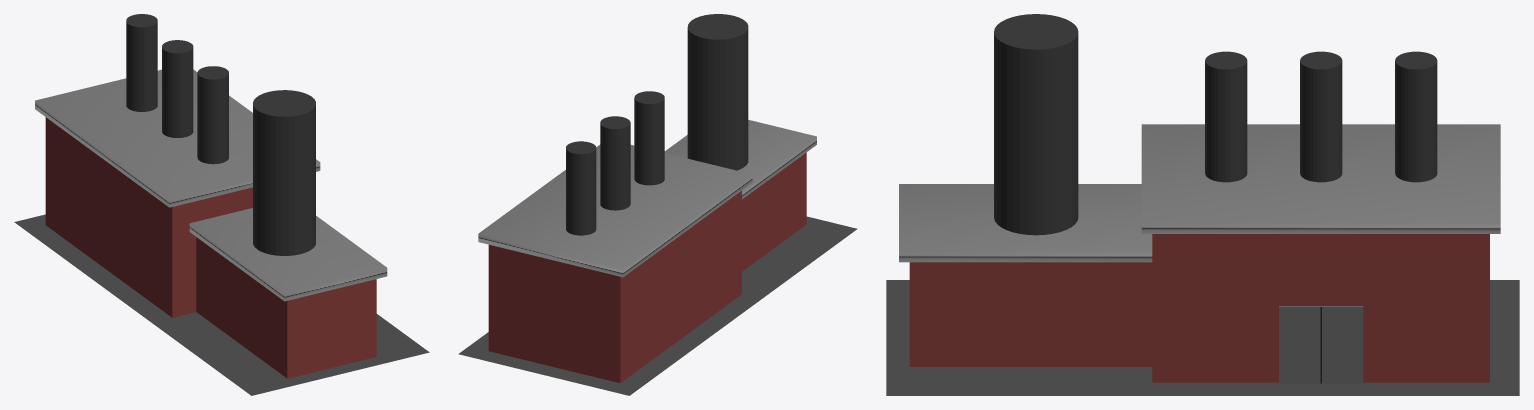
Rendered from Factory.fbx.
3 views of the same model, side by side, from view 1: azimuth 30°, elevation 25°; view 2: azimuth 150°, elevation 25°; view 3: azimuth 270°, elevation 25° (orthographic). The views are drawn at different scales.
Visible parts, largest first — view 1: Plane; view 2: Plane; view 3: Plane.
Part boxes in pixels (x1,y1,x2,y2): Plane: [14, 14, 429, 395]; Plane: [458, 14, 857, 395]; Plane: [886, 14, 1519, 395].
Bounding box in the file's own units: 1300 × 1600 × 3000.
